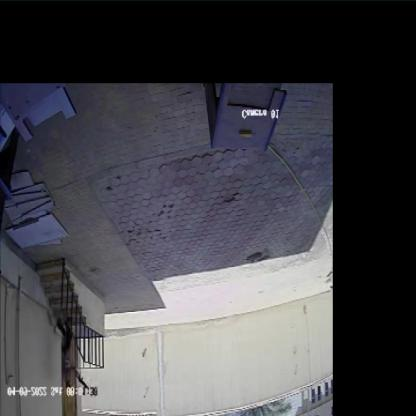handgun: (72, 368, 98, 392)
